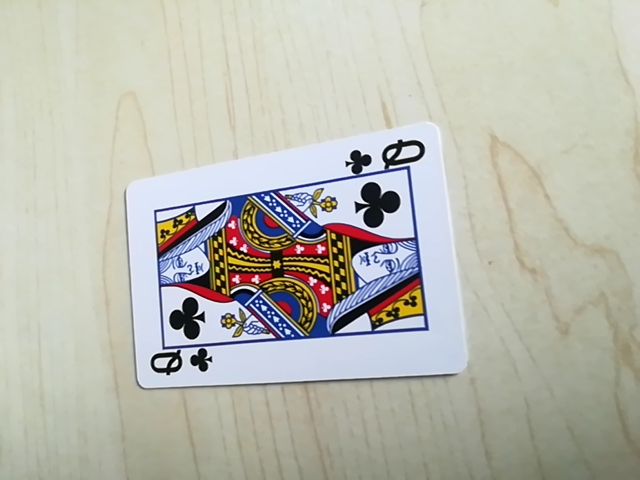mh q: (344, 135, 432, 174), (142, 343, 217, 387)
